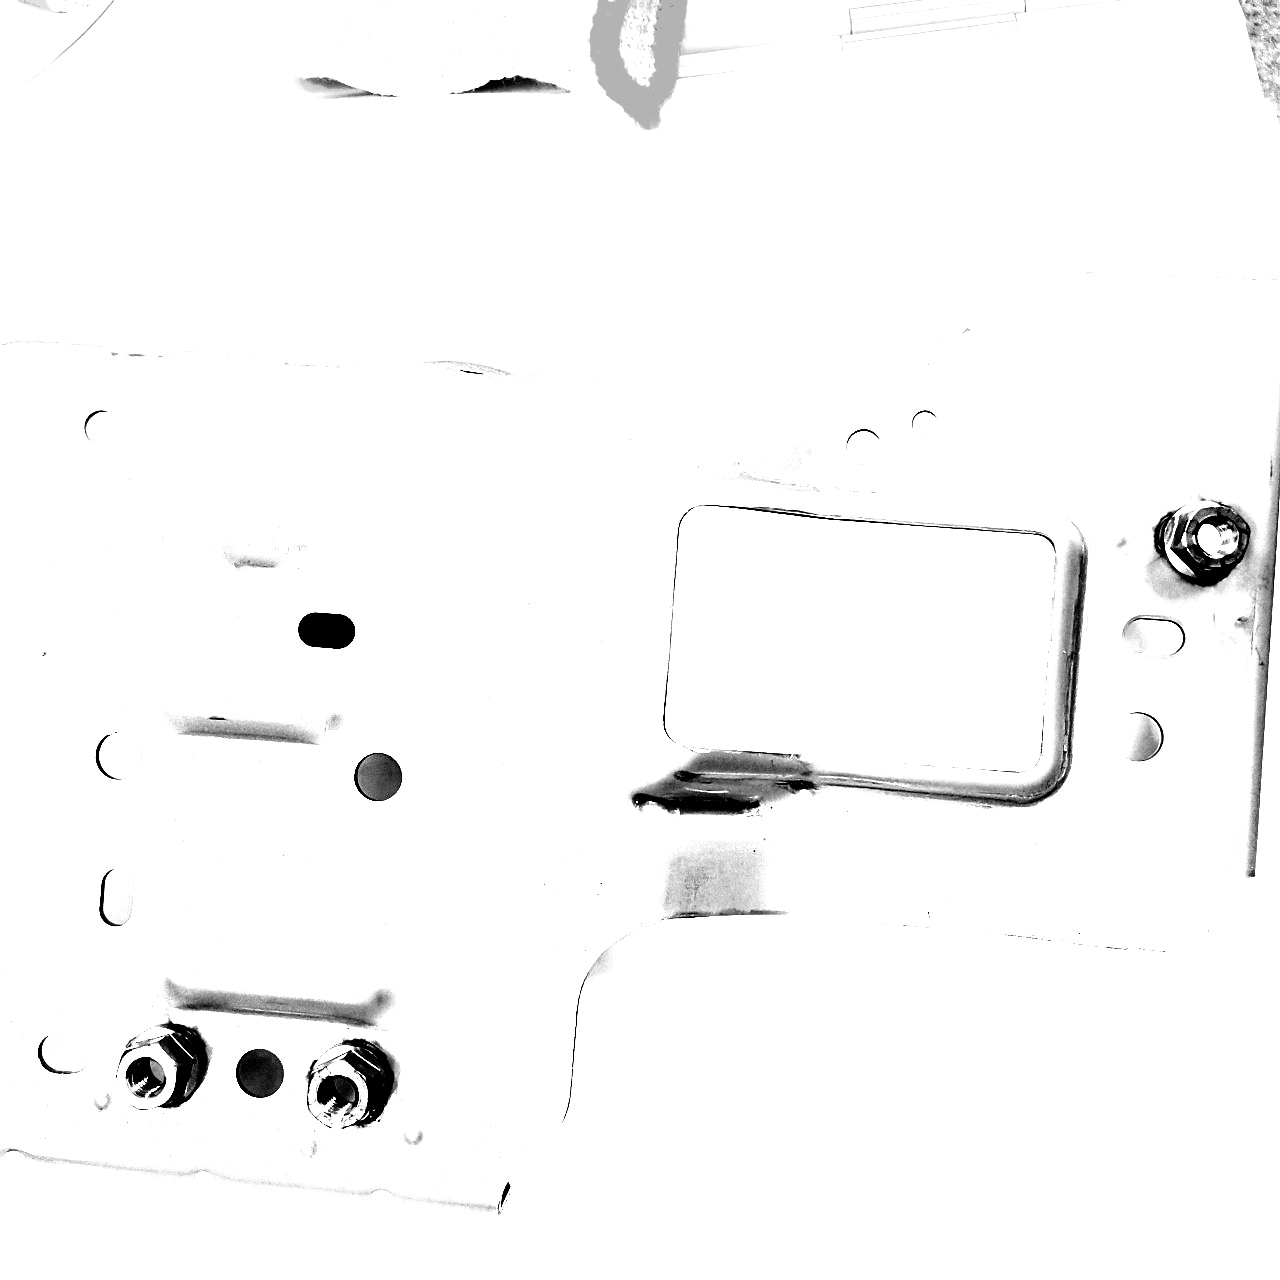dog: (1149, 493, 1255, 592), (110, 1017, 215, 1116), (302, 1039, 399, 1133)
